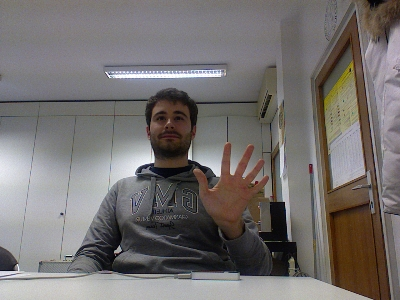布: (191, 141, 268, 223)
